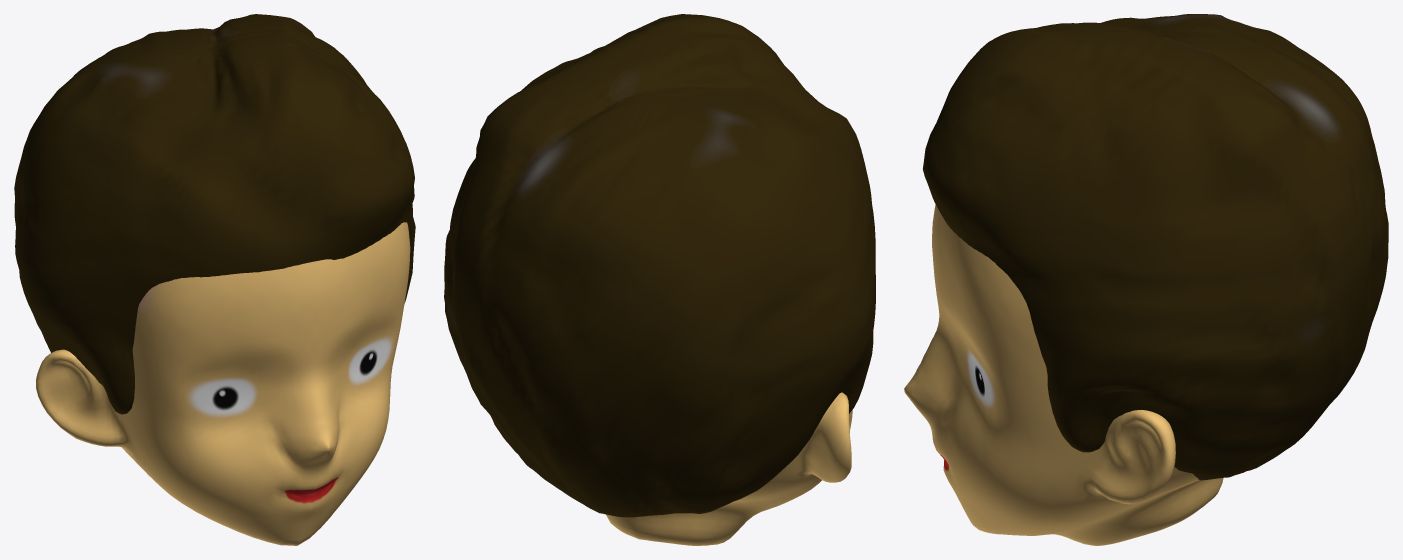
The model's file is manhead.fbx.
3 renders of one model, left to right at view 1: azimuth 30°, elevation 25°; view 2: azimuth 150°, elevation 25°; view 3: azimuth 270°, elevation 25°, orthographic. The views are drawn at different scales.
Parts seen in each view (by area): view 1: Man_Hair, Man_Head; view 2: Man_Hair, Man_Head; view 3: Man_Hair, Man_Head.
Boxes of the visible parts, left/top/right/bottom form: Man_Hair: left=14, top=14, right=415, bottom=414; Man_Head: left=36, top=222, right=410, bottom=545; Man_Hair: left=444, top=14, right=875, bottom=517; Man_Head: left=606, top=392, right=852, bottom=545; Man_Hair: left=923, top=14, right=1388, bottom=480; Man_Head: left=904, top=204, right=1223, bottom=545.
Size of the model in its own units: 14.59 by 17.7 by 14.99.
Materials: 2 (2 with a texture image).
